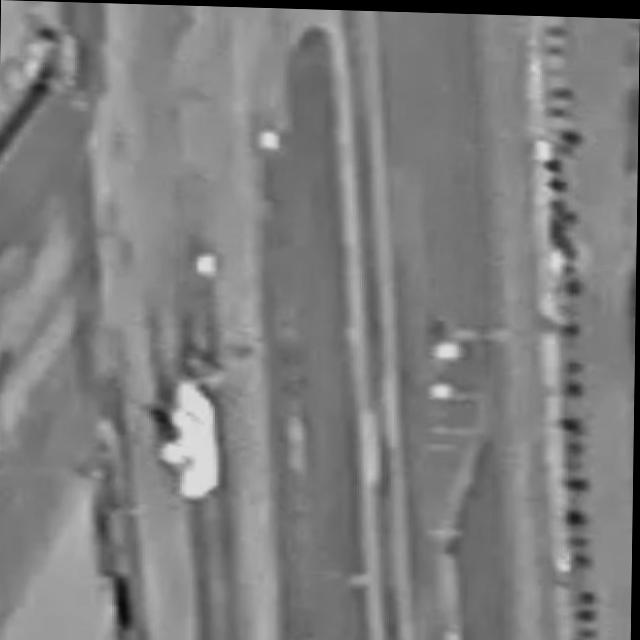aeroplane: (123, 341, 265, 509)
